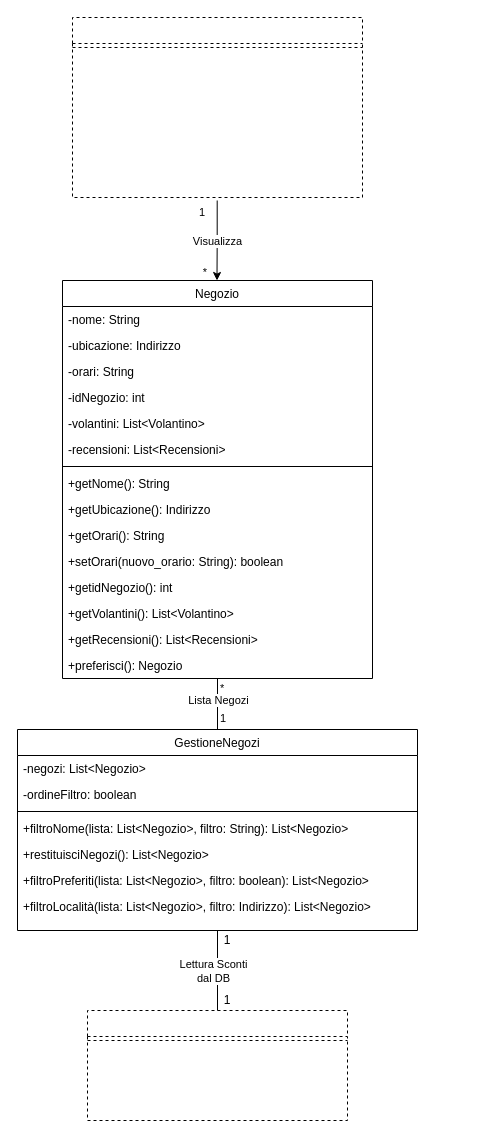
Image size: 485x1138. Some labels were removed from this diagram. Each missing label, with the centre of its shape:
"LetturaDBDati" goes at point (217, 1065).
"Utente" goes at point (217, 107).
